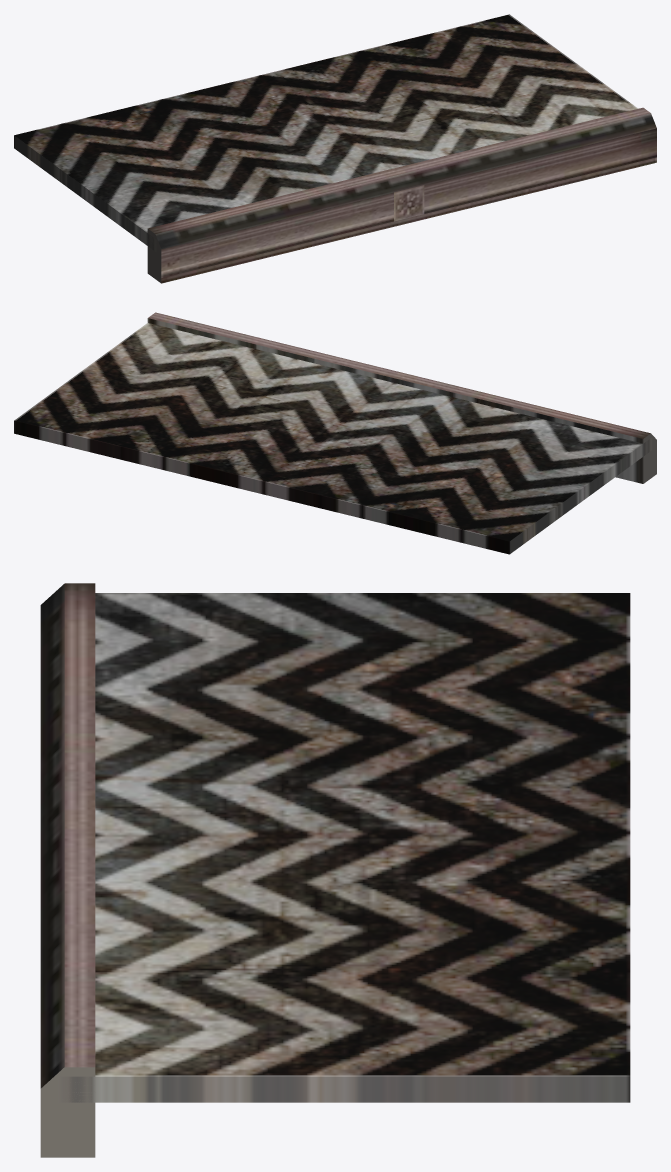
The model's file is Slap_SH_Plateform_02.fbx.
3 views of the same model, one above another, from view 1: azimuth 30°, elevation 25°; view 2: azimuth 150°, elevation 25°; view 3: azimuth 270°, elevation 25° (orthographic). The views are drawn at different scales.
Parts seen in each view (by area): view 1: Slap_SH_Plateform_02; view 2: Slap_SH_Plateform_02; view 3: Slap_SH_Plateform_02.
Part boxes in pixels (x1,y1,x2,y2): Slap_SH_Plateform_02: [14, 14, 656, 283]; Slap_SH_Plateform_02: [14, 312, 656, 554]; Slap_SH_Plateform_02: [40, 583, 630, 1157].
Size of the model in its own units: 2 by 0.1741 by 1.03.
1 material, 1 textured.
